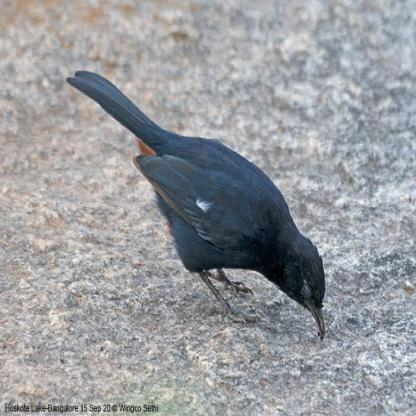Burung: (65, 69, 326, 341)
